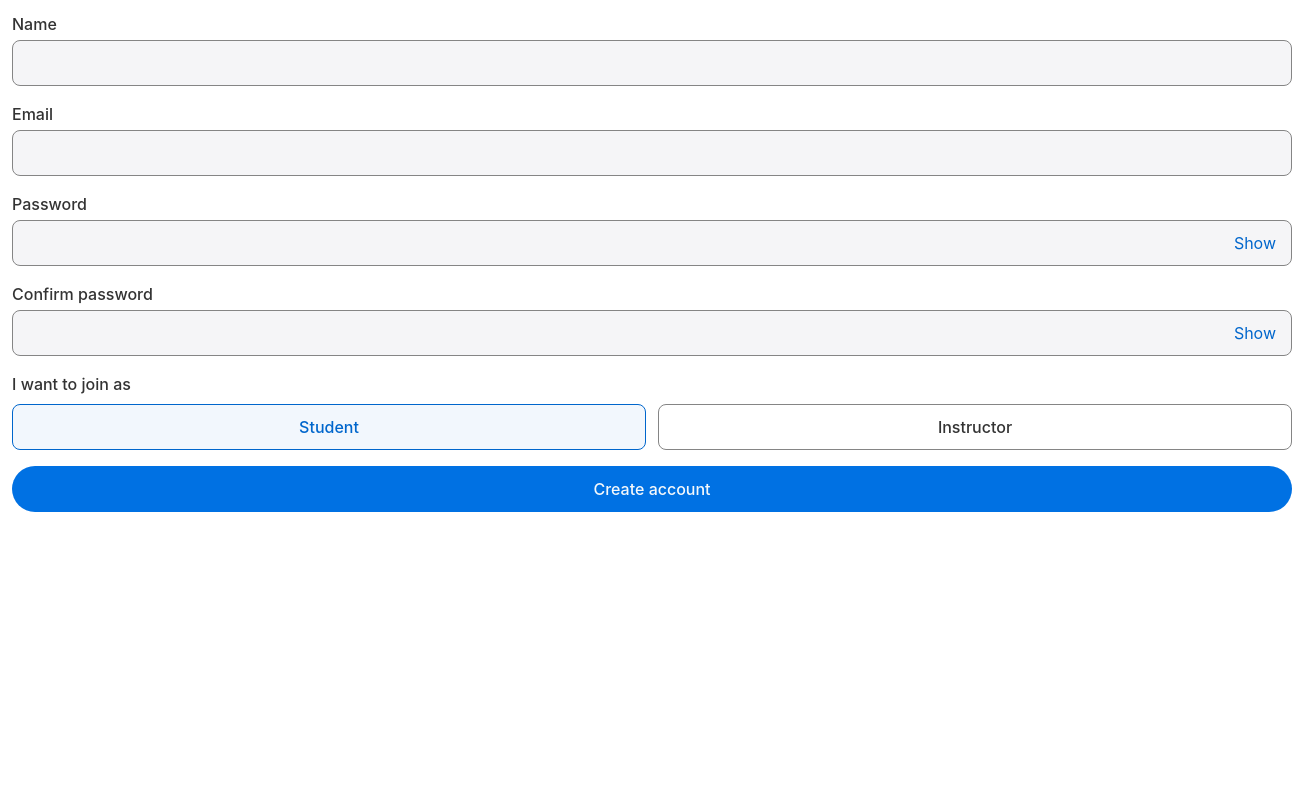
it: RegisterForm › displays a friendly error when the email already exists
Type "Jane Student" into the field labelled "Name". click: (652, 63)
box: [12,40,1292,86]
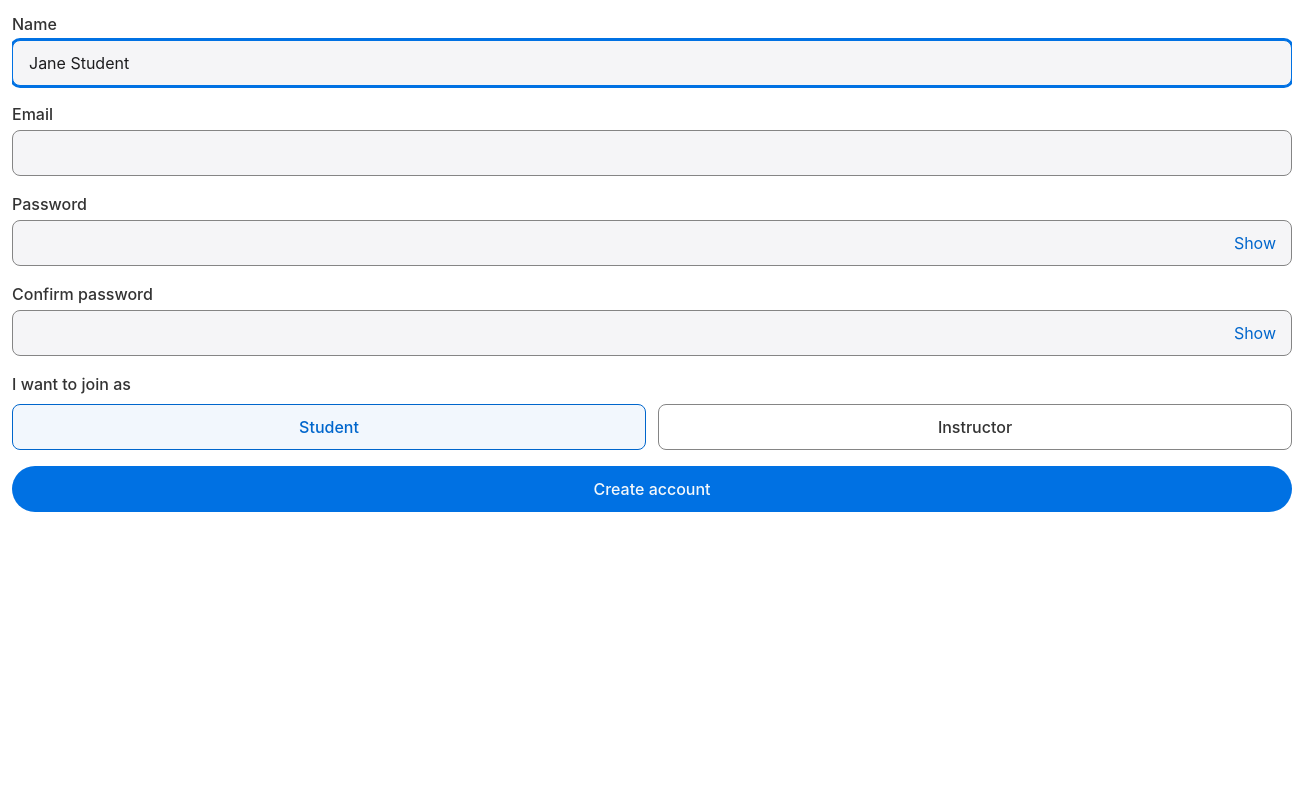
Type "student@example.com" into the field labelled "Email". click: (652, 153)
box: [12,130,1292,176]
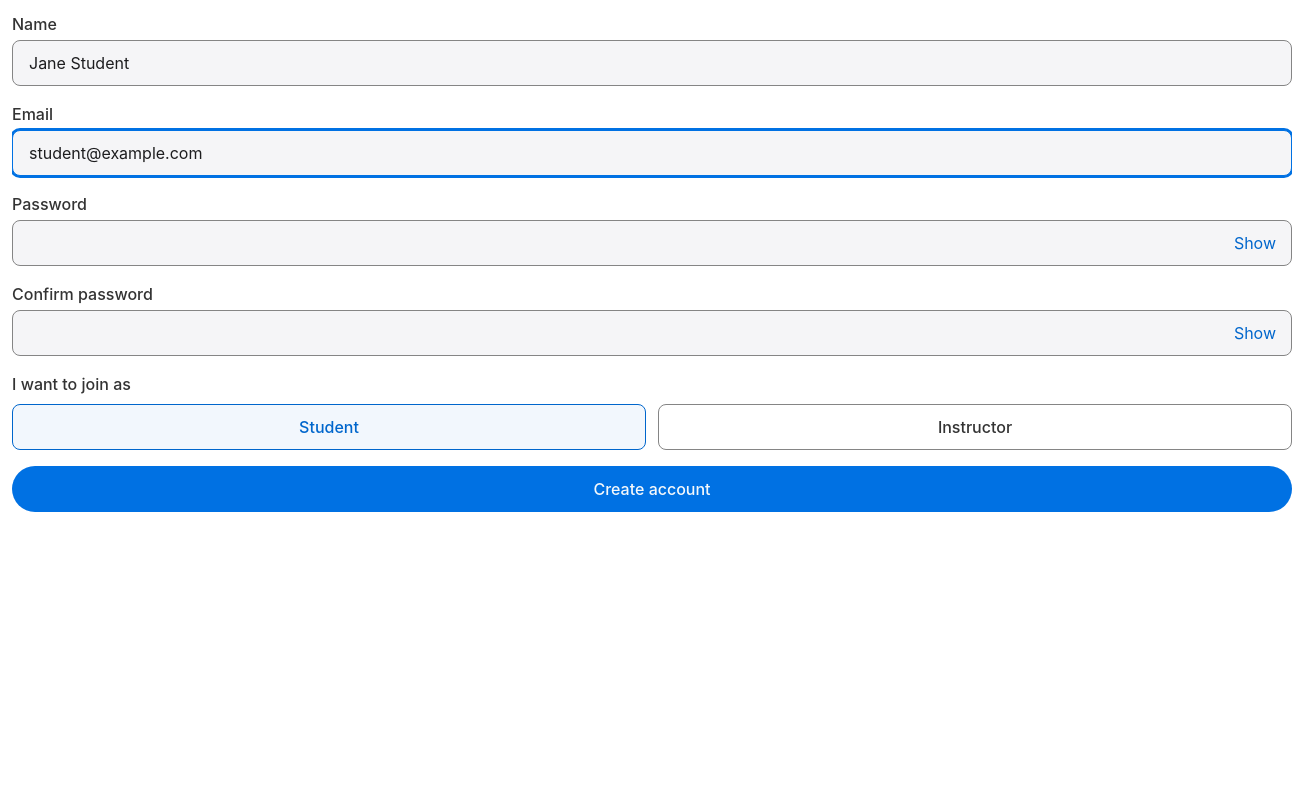
Type "Password1" into the password field labelled "Password". click: (652, 243)
box: [12,220,1292,266]
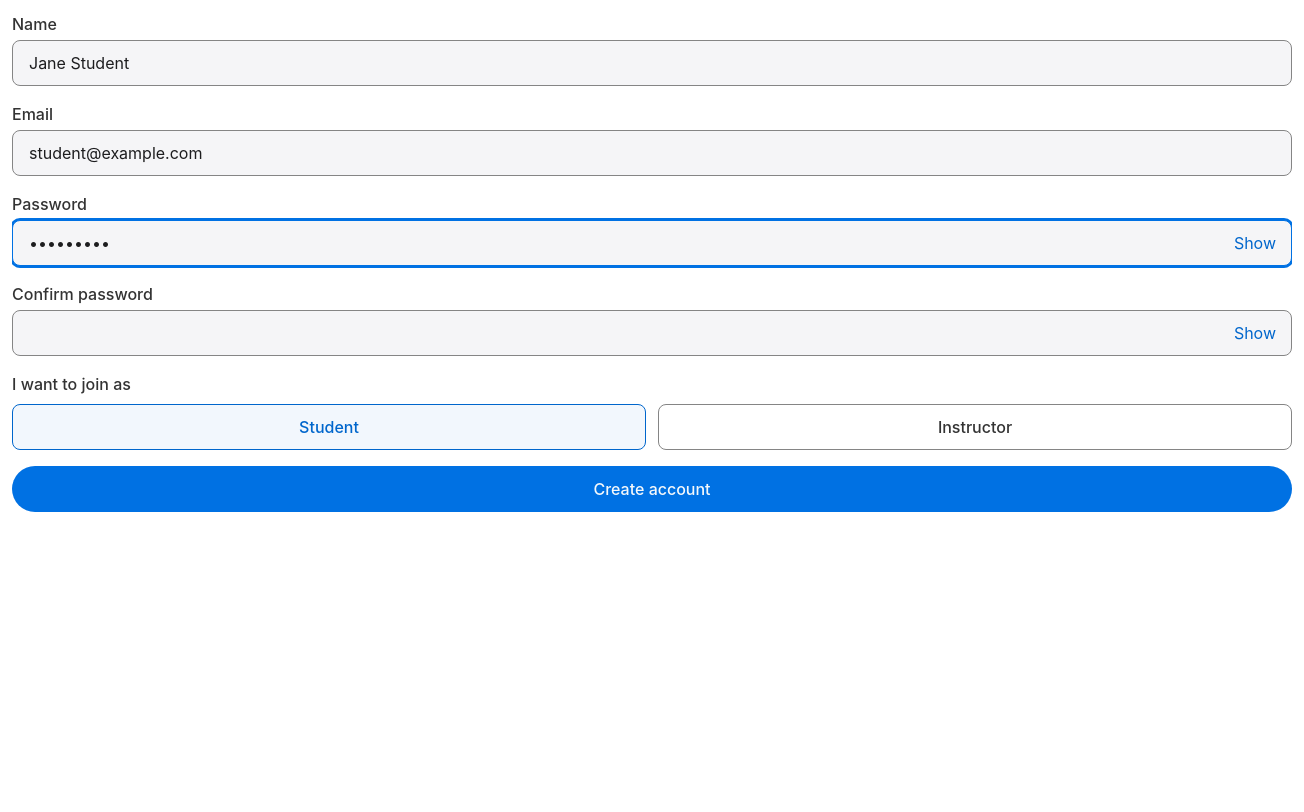
Type "Password1" into the password field labelled "Confirm password". click: (652, 333)
box: [12,310,1292,356]
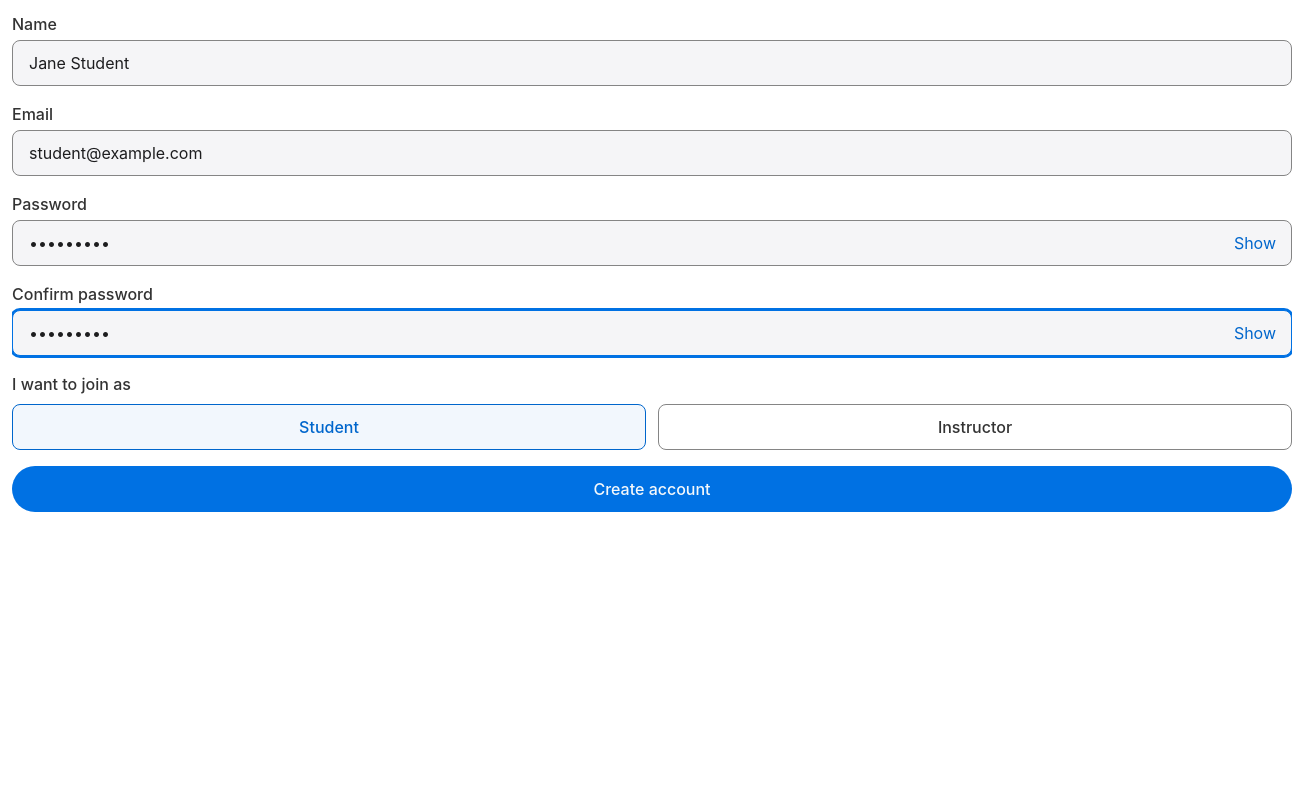
Click the button "Create account". click: click(652, 489)
box: [12,466,1292,512]
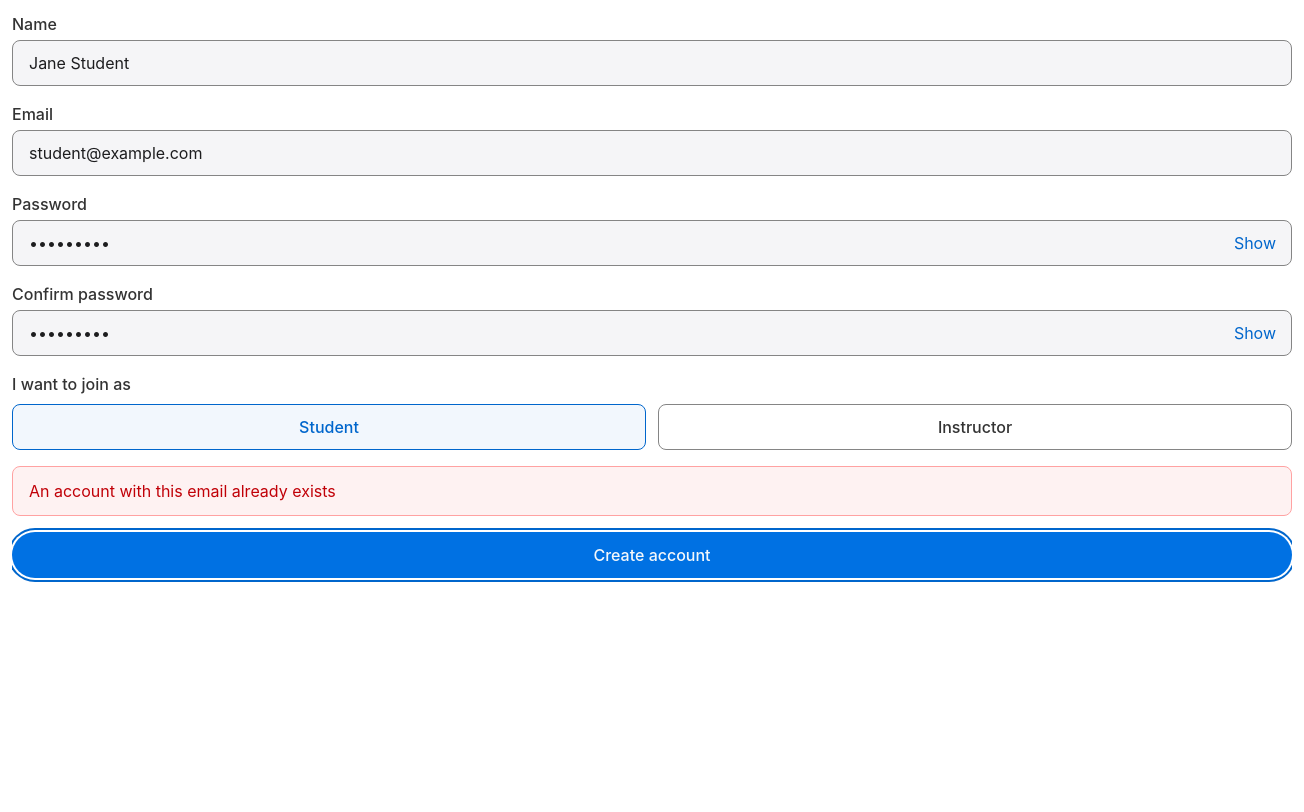
Expected: the message reads "An account with this email already exists", [29,481,336,501]
